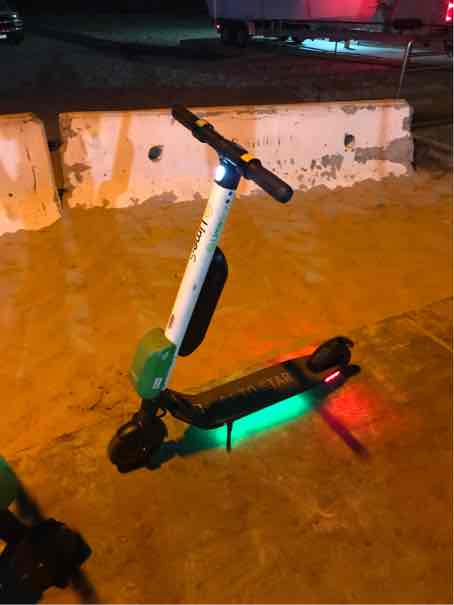scooter: (101, 97, 373, 474)
